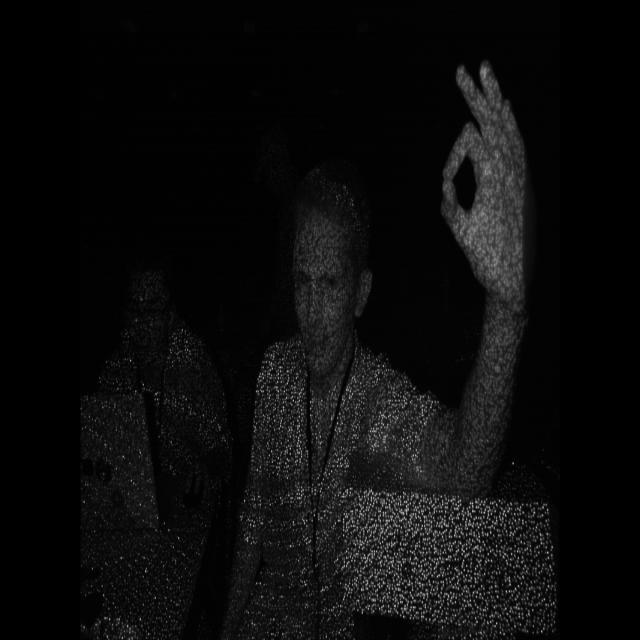F: (434, 42, 544, 344)
